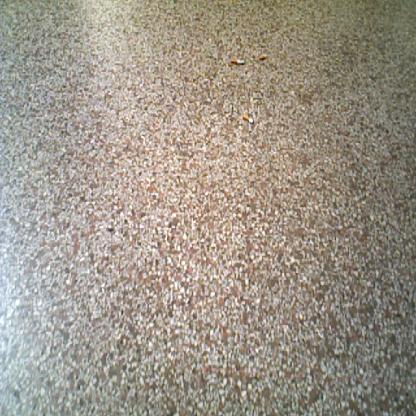dirty: (240, 113, 255, 125), (229, 57, 245, 66), (257, 52, 268, 62)
